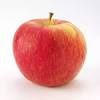apple: (11, 11, 88, 89)
